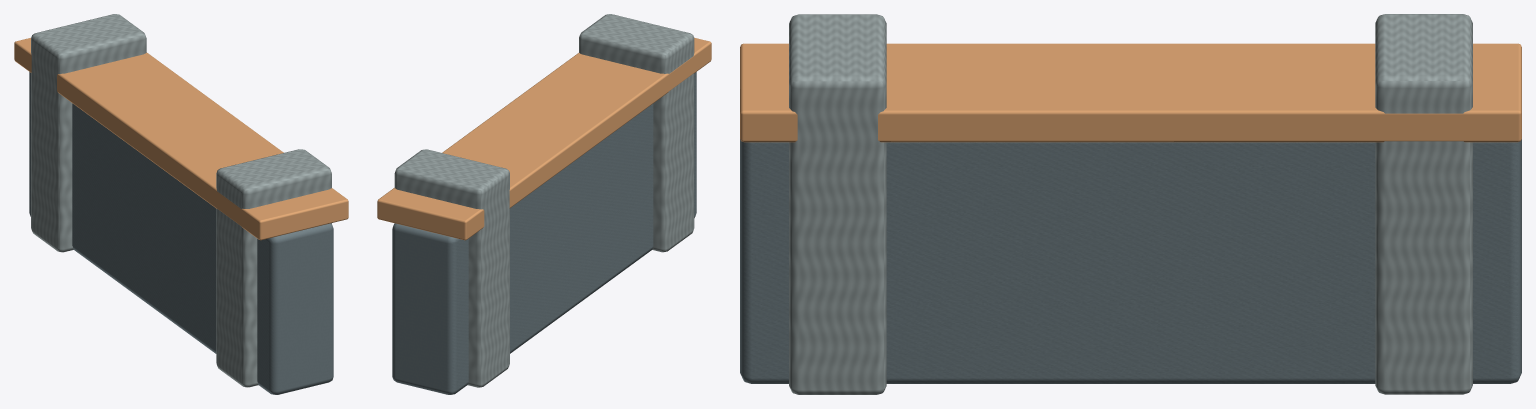
The model's file is dwarven-runeforge-dungeon-dwarven-runeforge-dungeon-pa-d1e2662b__28584.glb.
3 views of the same model, side by side, from view 1: azimuth 30°, elevation 25°; view 2: azimuth 150°, elevation 25°; view 3: azimuth 270°, elevation 25° (orthographic). The views are drawn at different scales.
Visible parts, largest first — view 1: dwarven-runeforge-dungeon-parapet-straight; view 2: dwarven-runeforge-dungeon-parapet-straight; view 3: dwarven-runeforge-dungeon-parapet-straight.
Boxes of the visible parts, <box> form: dwarven-runeforge-dungeon-parapet-straight: <box>14,14,348,394</box>; dwarven-runeforge-dungeon-parapet-straight: <box>377,14,711,394</box>; dwarven-runeforge-dungeon-parapet-straight: <box>740,14,1521,394</box>.
Size of the model in its own units: 0.4223 by 0.9001 by 2.
Materials: 3 (2 with a texture image).
